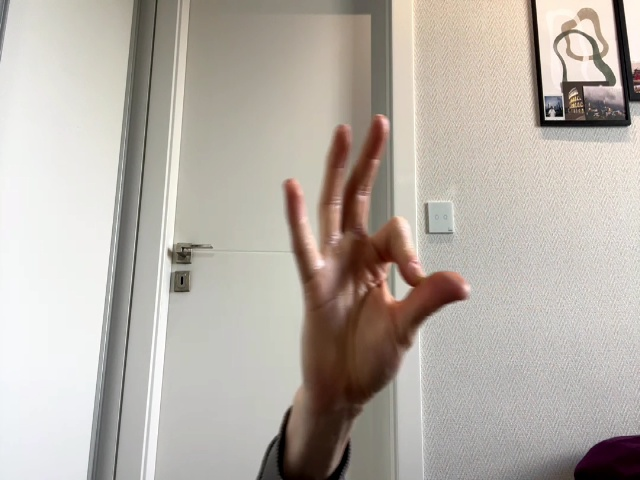S: (283, 115, 469, 407)
